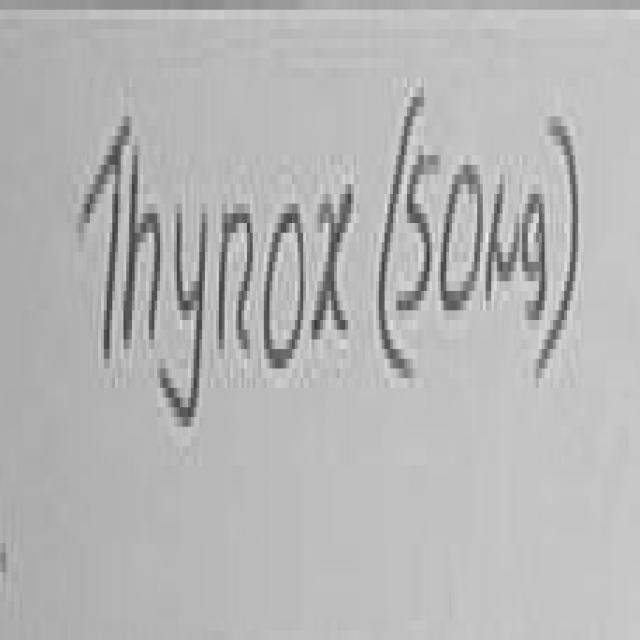0: (444, 165, 486, 310)
5: (399, 155, 441, 305)
T: (81, 116, 132, 354)
g: (525, 194, 547, 320)
h: (124, 155, 160, 349)
m: (488, 184, 522, 296)
o: (264, 204, 306, 368)
r: (219, 213, 253, 349)
x: (314, 184, 354, 335)
y: (160, 213, 208, 427)
